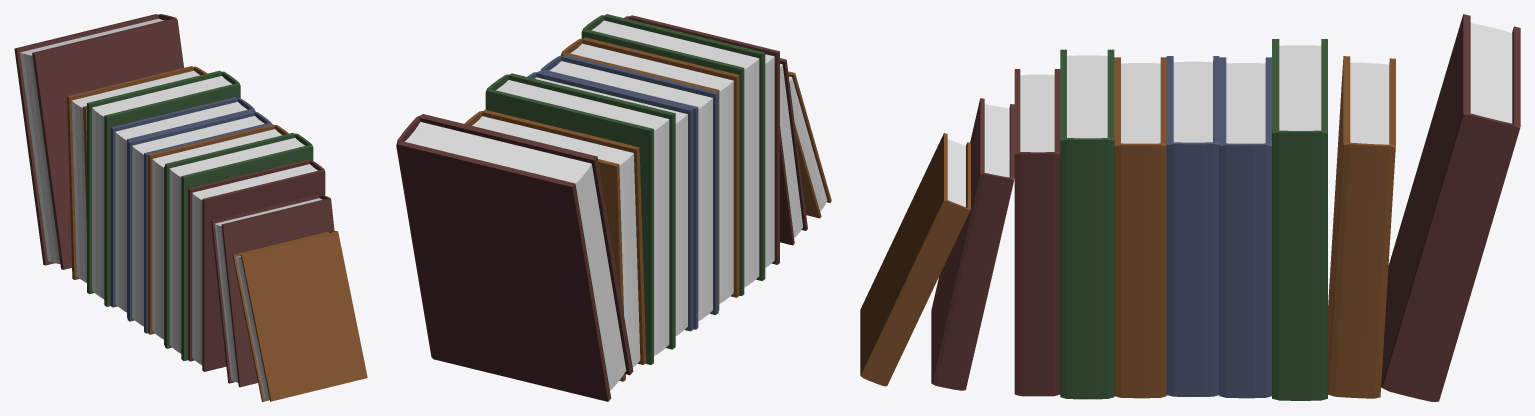
File: VJ_R_PackLlibres_01.fbx
3 views of the same model, side by side, from view 1: azimuth 30°, elevation 25°; view 2: azimuth 150°, elevation 25°; view 3: azimuth 270°, elevation 25° (orthographic). The views are drawn at different scales.
Parts seen in each view (by area): view 1: R_PackLlibres_01; view 2: R_PackLlibres_01; view 3: R_PackLlibres_01.
Boxes of the visible parts, x1,y1,x2,y2 form: R_PackLlibres_01: (14, 14, 367, 401); R_PackLlibres_01: (396, 14, 831, 401); R_PackLlibres_01: (860, 14, 1520, 401).
Bounding box in the file's own units: 3.96 × 5.39 × 11.07.
